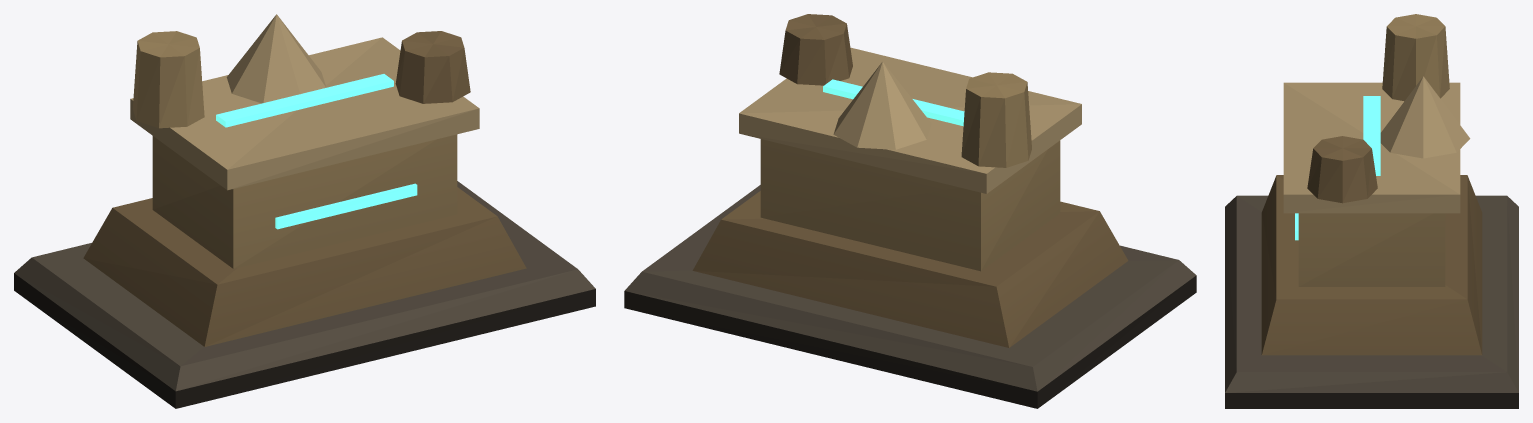
File: temple-altar.glb
3 views of the same model, side by side, from view 1: azimuth 30°, elevation 25°; view 2: azimuth 150°, elevation 25°; view 3: azimuth 270°, elevation 25° (orthographic). The views are drawn at different scales.
Size of the model in its own units: 3 by 1.8 by 2.
